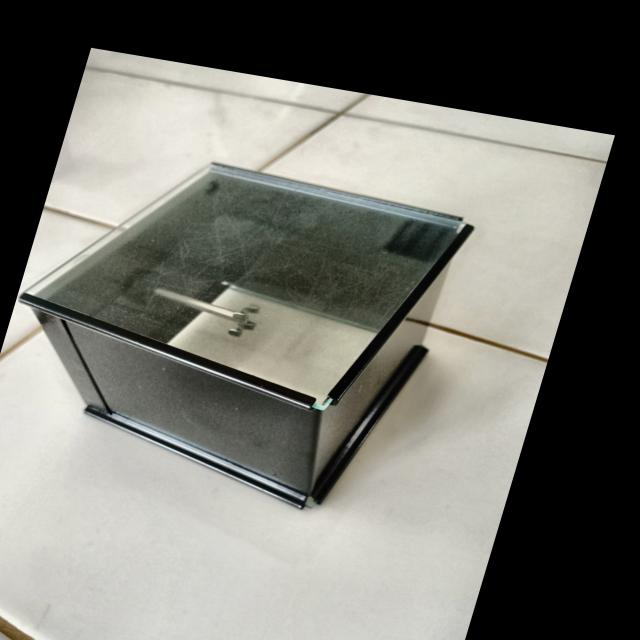Electroscope: (0, 130, 491, 525)
